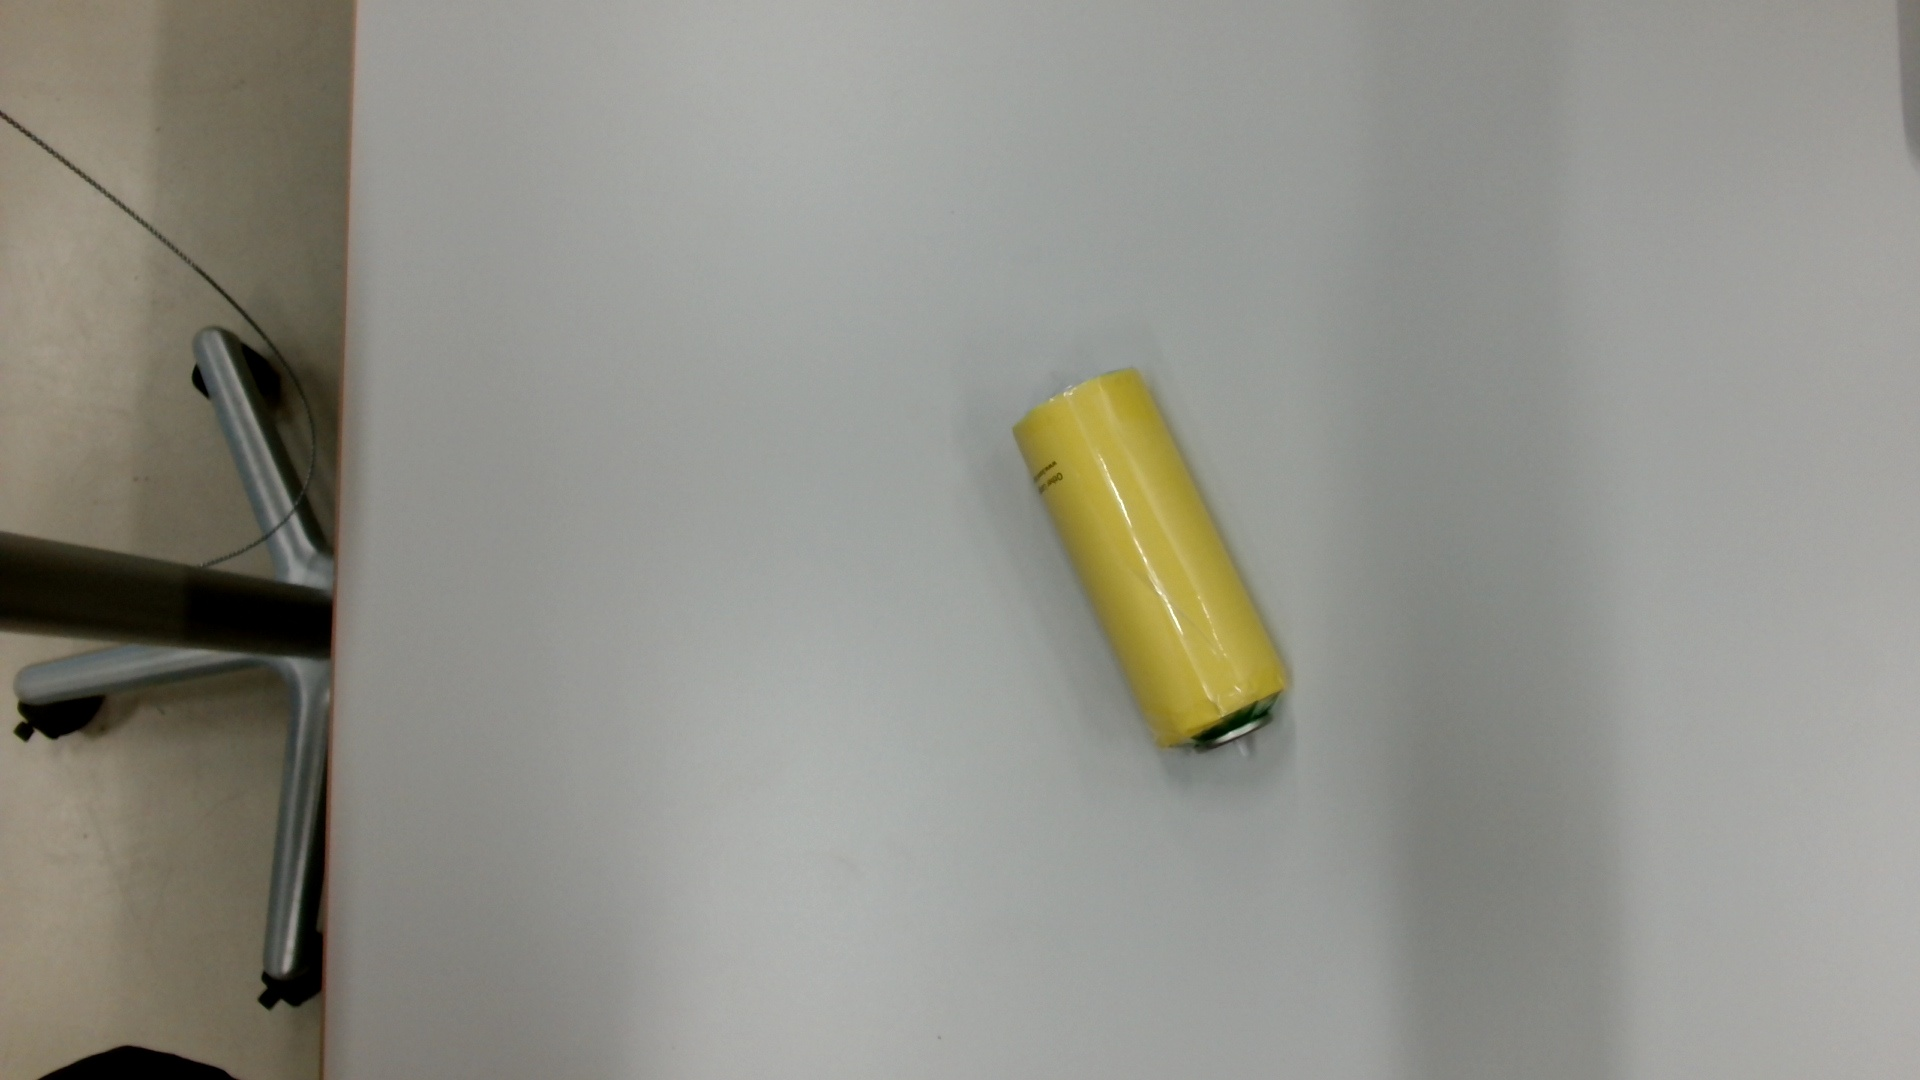Cylinder: (1006, 357, 1302, 773)
